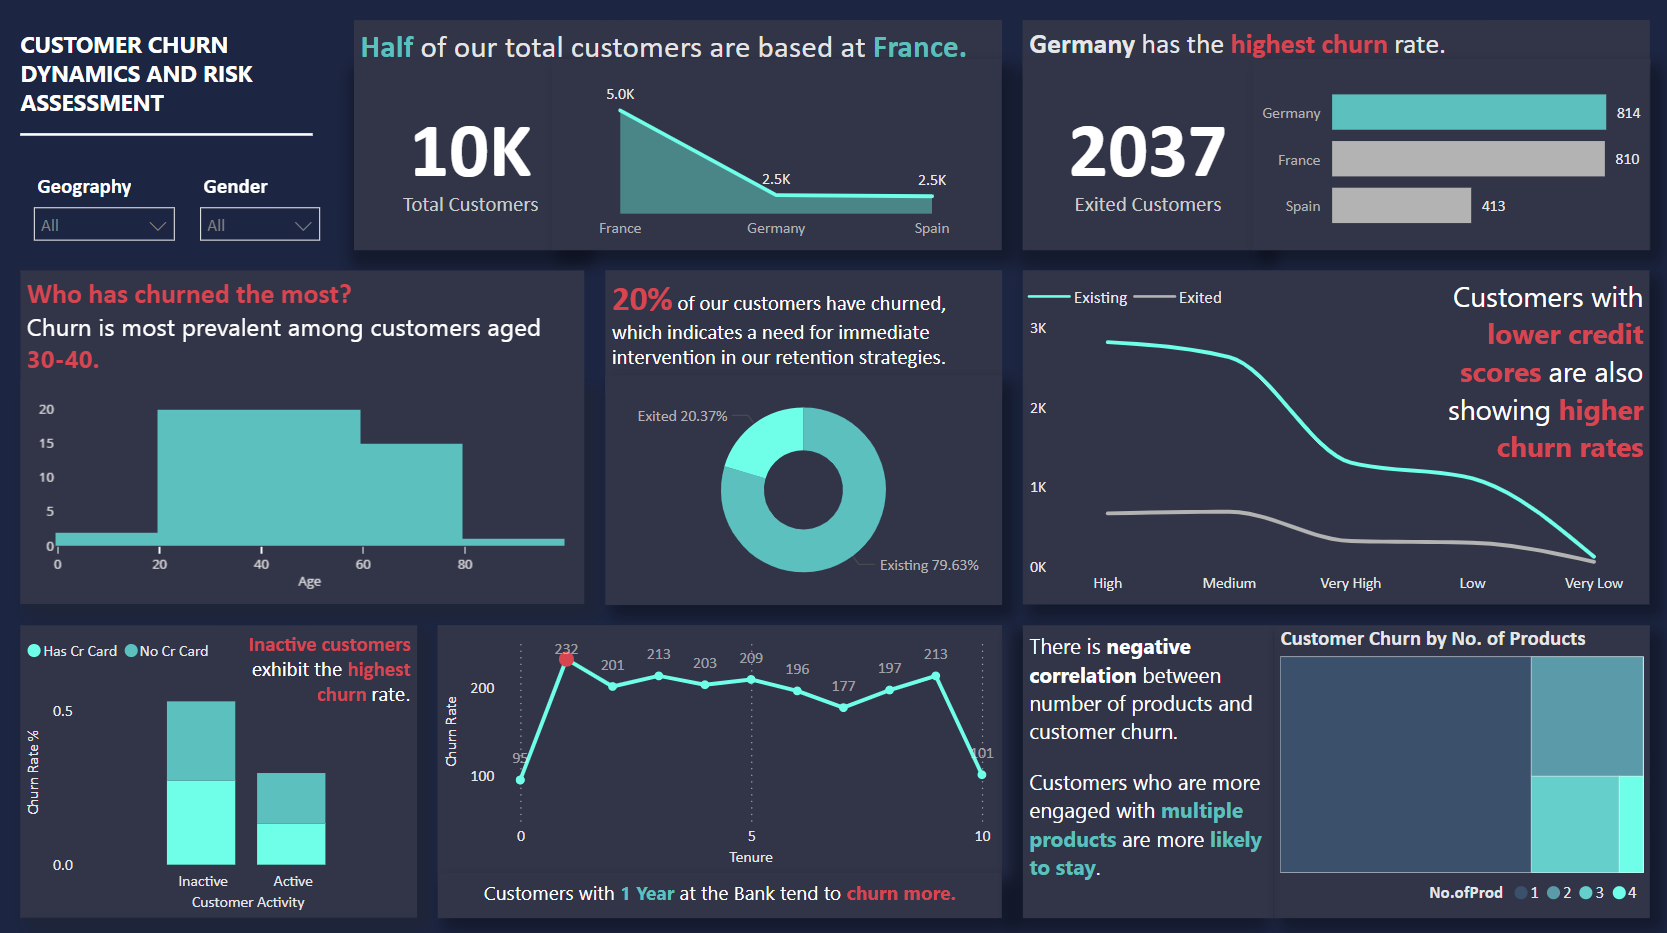

Layout of this report page (visuals, bound fields, positions):
{"tool":"powerbi","page":{"name":"Page 1","canvas":[1280,720],"ordinal":0},"visuals":[{"type":"shape","box":[16,16,240,80],"z":0},{"type":"lineChart","fields":{"Category":["Bank_Churn.Credit_Score_Range"],"Y":["CountNonNull(Bank_Churn.Exited_Text)"],"Series":["Bank_Churn.Exited_Text"]},"box":[784,208,480,256],"z":0,"group":"g3"},{"type":"card","fields":{"Values":["Bank_Churn.Count_Churn Rate"]},"box":[784,45.3,192.2,146.7],"z":500,"group":"g7"},{"type":"slicer","fields":{"Values":["Bank_Churn.Geography"]},"box":[16,128,128,80],"z":1000},{"type":"columnChart","fields":{"Category":["Bank_Churn.Active_Member_Text"],"Series":["Bank_Churn.HasCreditCard_Text"],"Y":["Bank_Churn.% Churn Rate"]},"box":[16,480,304,224],"z":1000,"group":"g6"},{"type":"barChart","fields":{"Category":["Bank_Churn.Geography"],"Y":["Bank_Churn.Count_Churn Rate"]},"box":[960.2,45.3,304.3,146.7],"z":2000,"group":"g7"},{"type":"shape","box":[16,95.8,224,16],"z":2000},{"type":"histogramF963F133BA02A0B35D286F09F80E9C78","title":"Churn Rate by Age","fields":{"col_2":["Bank_Churn.Age"],"col_3":["Bank_Churn.Count Churn Rate"]},"box":[16,293.3,432,170.7],"z":2000,"group":"g5"},{"type":"group","id":"g1","title":"Group 3","box":[272,16,496,176],"z":3000},{"type":"group","id":"g2","title":"Group 4","box":[784,16,480,176],"z":4000},{"type":"group","id":"g3","title":"Group 5","box":[784,208,480,256],"z":5000},{"type":"group","id":"g4","title":"Group 6","box":[464,208,304,256],"z":6000},{"type":"card","fields":{"Values":["Count(Bank_Churn.CustomerId)"]},"box":[272,45.3,179.1,146.7],"z":6500,"group":"g10"},{"type":"group","id":"g5","title":"Group 7","box":[16,208,432,256],"z":7000},{"type":"group","id":"g6","title":"Group 8","box":[16,480,304,224],"z":8000},{"type":"textbox","box":[784,16,480,44],"z":8500,"group":"g2"},{"type":"group","id":"g7","title":"Group 2","box":[784,45.3,480.5,146.7],"z":9000,"group":"g2"},{"type":"slicer","fields":{"Values":["Bank_Churn.Gender"]},"box":[144,128,112,80],"z":9000},{"type":"textbox","box":[176,480,144,80],"z":9000,"group":"g6"},{"type":"textbox","box":[464,208,304,96],"z":10000,"group":"g4"},{"type":"group","id":"g8","title":"Group 9","box":[336,480,432,224],"z":10000},{"type":"lineChart","fields":{"Category":["Bank_Churn.Tenure"],"Y":["Bank_Churn.Count_Churn Rate"]},"box":[336,480,432,189.5],"z":10000,"group":"g8"},{"type":"textbox","box":[272,16,496,44],"z":10001,"group":"g1"},{"type":"donutChart","title":"Customer Churn Overview","fields":{"Category":["Bank_Churn.Exited_Text"],"Y":["CountNonNull(Bank_Churn.Exited_Text)"]},"box":[464,288,304,176],"z":10500,"group":"g4"},{"type":"textbox","box":[16,208,432,85.3],"z":11000,"group":"g5"},{"type":"group","id":"g9","title":"Group 10","box":[784,480,480,224],"z":11000},{"type":"treemap","title":"Customer Churn by No. of Products","fields":{"Group":["Bank_Churn.NumOfProducts"],"Values":["Bank_Churn.Count_Churn Rate"],"Details":["Bank_Churn.Exited_Text"]},"box":[976,480,288,224],"z":11000,"group":"g9"},{"type":"areaChart","fields":{"Category":["Bank_Churn.Geography"],"Y":["CountNonNull(Bank_Churn.CustomerId)"]},"box":[423.6,45.3,344.4,146.7],"z":11001,"group":"g10"},{"type":"group","id":"g10","title":"Group 1","box":[272,45.3,496,146.7],"z":11002,"group":"g1"},{"type":"textbox","box":[1069,208,195,192],"z":12000,"group":"g3"},{"type":"textbox","box":[784,480,192,224],"z":12000,"group":"g9"},{"type":"textbox","box":[336,669.5,432,34.5],"z":12000,"group":"g8"}]}

Visuals, with their boxes in screenshot pixels (x1, y1, x2, y2), scaled from the page's 1280x720 canvas onto the 1667x933 screenshot:
shape: <bbox>21, 21, 333, 124</bbox>
lineChart - Bank_Churn.Credit_Score_Range x CountNonNull(Bank_Churn.Exited_Text): <bbox>1021, 270, 1646, 601</bbox>
card - Bank_Churn.Count_Churn Rate: <bbox>1021, 59, 1271, 249</bbox>
slicer - Bank_Churn.Geography: <bbox>21, 166, 188, 270</bbox>
columnChart - Bank_Churn.Active_Member_Text x Bank_Churn.HasCreditCard_Text: <bbox>21, 622, 417, 912</bbox>
barChart - Bank_Churn.Geography x Bank_Churn.Count_Churn Rate: <bbox>1251, 59, 1647, 249</bbox>
shape: <bbox>21, 124, 313, 145</bbox>
"Churn Rate by Age" histogramF963F133BA02A0B35D286F09F80E9C78: <bbox>21, 380, 583, 601</bbox>
"Group 3" group: <bbox>354, 21, 1000, 249</bbox>
"Group 4" group: <bbox>1021, 21, 1646, 249</bbox>
"Group 5" group: <bbox>1021, 270, 1646, 601</bbox>
"Group 6" group: <bbox>604, 270, 1000, 601</bbox>
card - Count(Bank_Churn.CustomerId): <bbox>354, 59, 587, 249</bbox>
"Group 7" group: <bbox>21, 270, 583, 601</bbox>
"Group 8" group: <bbox>21, 622, 417, 912</bbox>
textbox: <bbox>1021, 21, 1646, 78</bbox>
"Group 2" group: <bbox>1021, 59, 1647, 249</bbox>
slicer - Bank_Churn.Gender: <bbox>188, 166, 333, 270</bbox>
textbox: <bbox>229, 622, 417, 726</bbox>
textbox: <bbox>604, 270, 1000, 394</bbox>
"Group 9" group: <bbox>438, 622, 1000, 912</bbox>
lineChart - Bank_Churn.Tenure x Bank_Churn.Count_Churn Rate: <bbox>438, 622, 1000, 868</bbox>
textbox: <bbox>354, 21, 1000, 78</bbox>
"Customer Churn Overview" donutChart: <bbox>604, 373, 1000, 601</bbox>
textbox: <bbox>21, 270, 583, 380</bbox>
"Group 10" group: <bbox>1021, 622, 1646, 912</bbox>
"Customer Churn by No. of Products" treemap: <bbox>1271, 622, 1646, 912</bbox>
areaChart - Bank_Churn.Geography x CountNonNull(Bank_Churn.CustomerId): <bbox>552, 59, 1000, 249</bbox>
"Group 1" group: <bbox>354, 59, 1000, 249</bbox>
textbox: <bbox>1392, 270, 1646, 518</bbox>
textbox: <bbox>1021, 622, 1271, 912</bbox>
textbox: <bbox>438, 868, 1000, 912</bbox>
